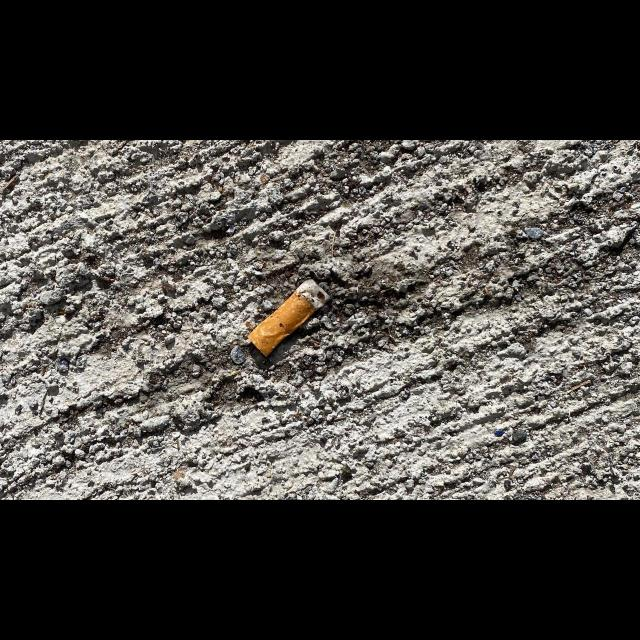cigarette: (246, 277, 331, 358)
